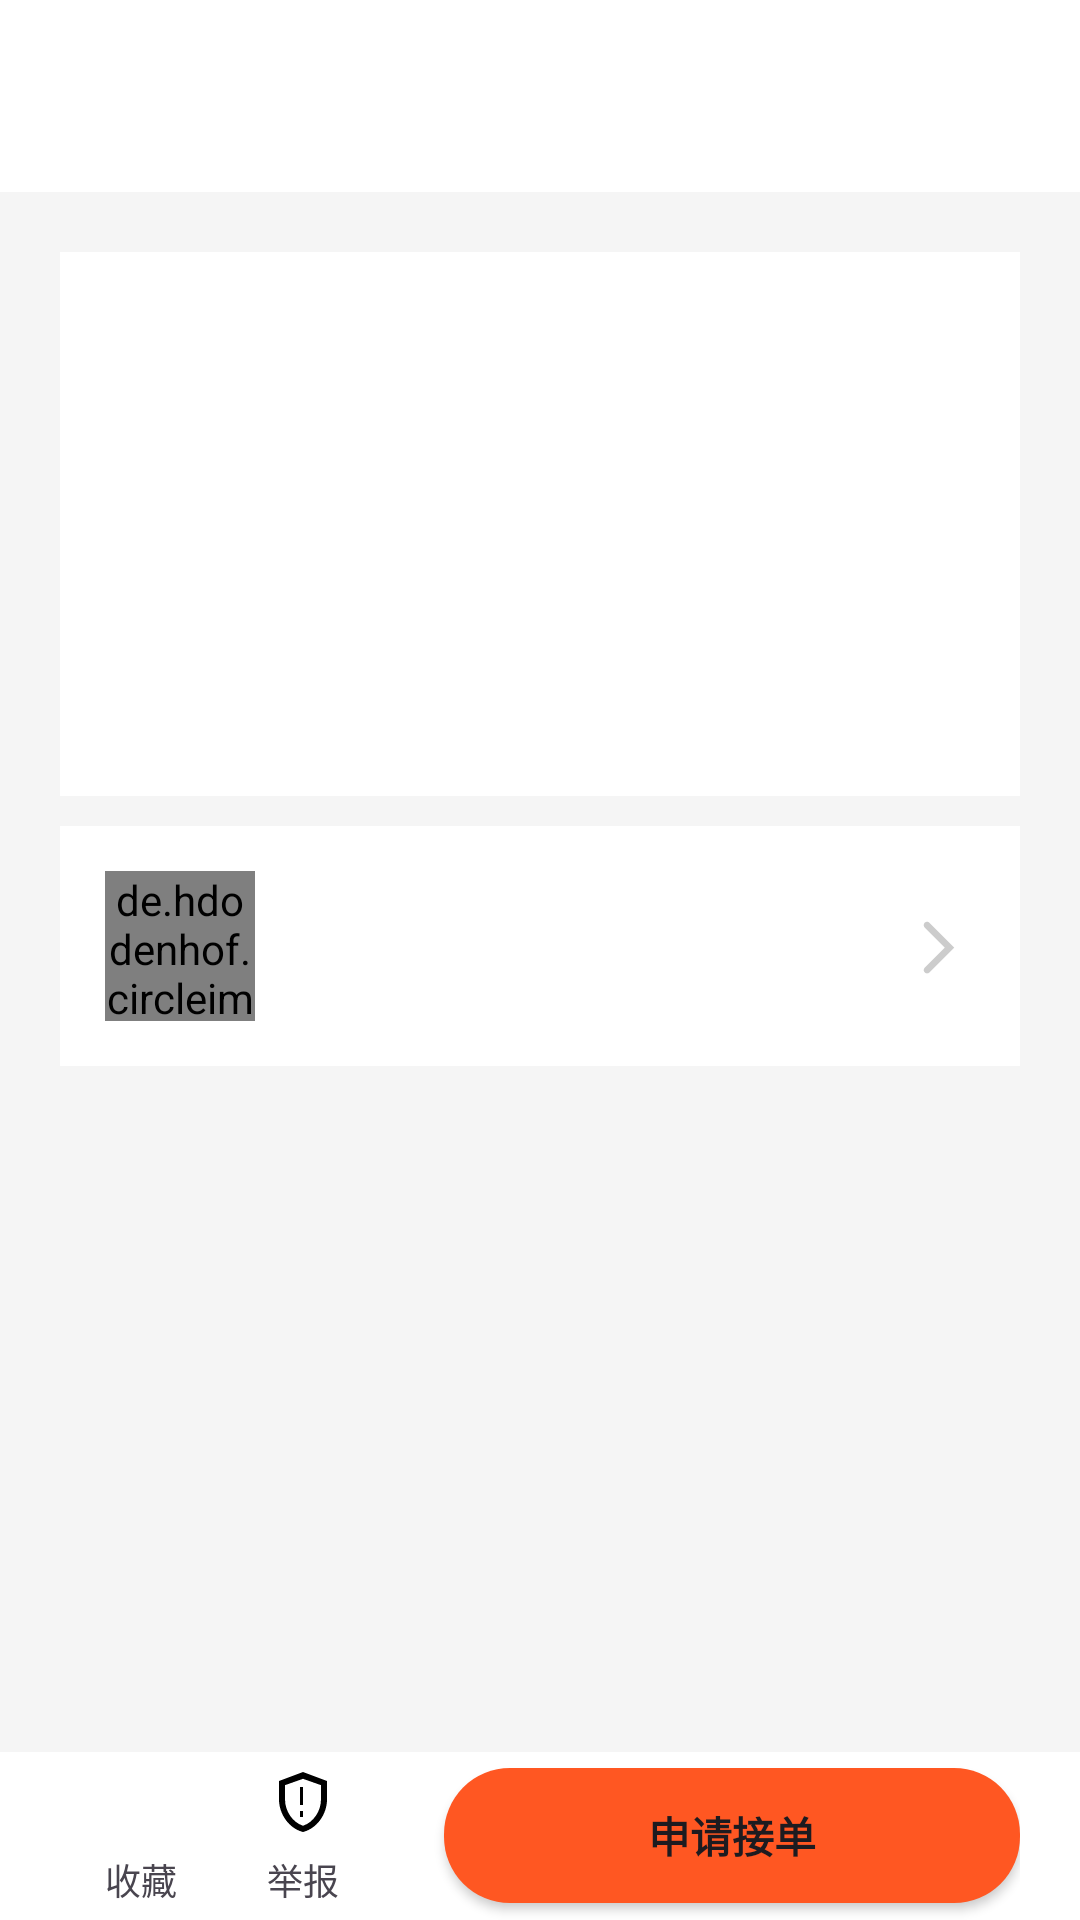

Icons on this 1080px×1920px Android screen, each with the point to tap as [x,y]:
arrow right: [939,947]
